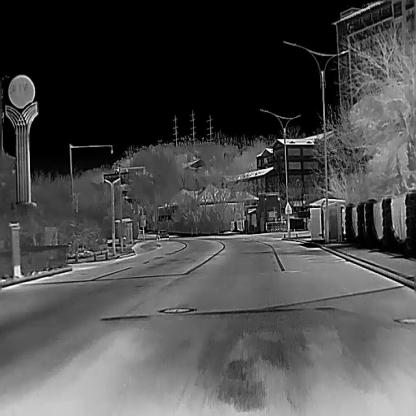car: (155, 229, 169, 240)
